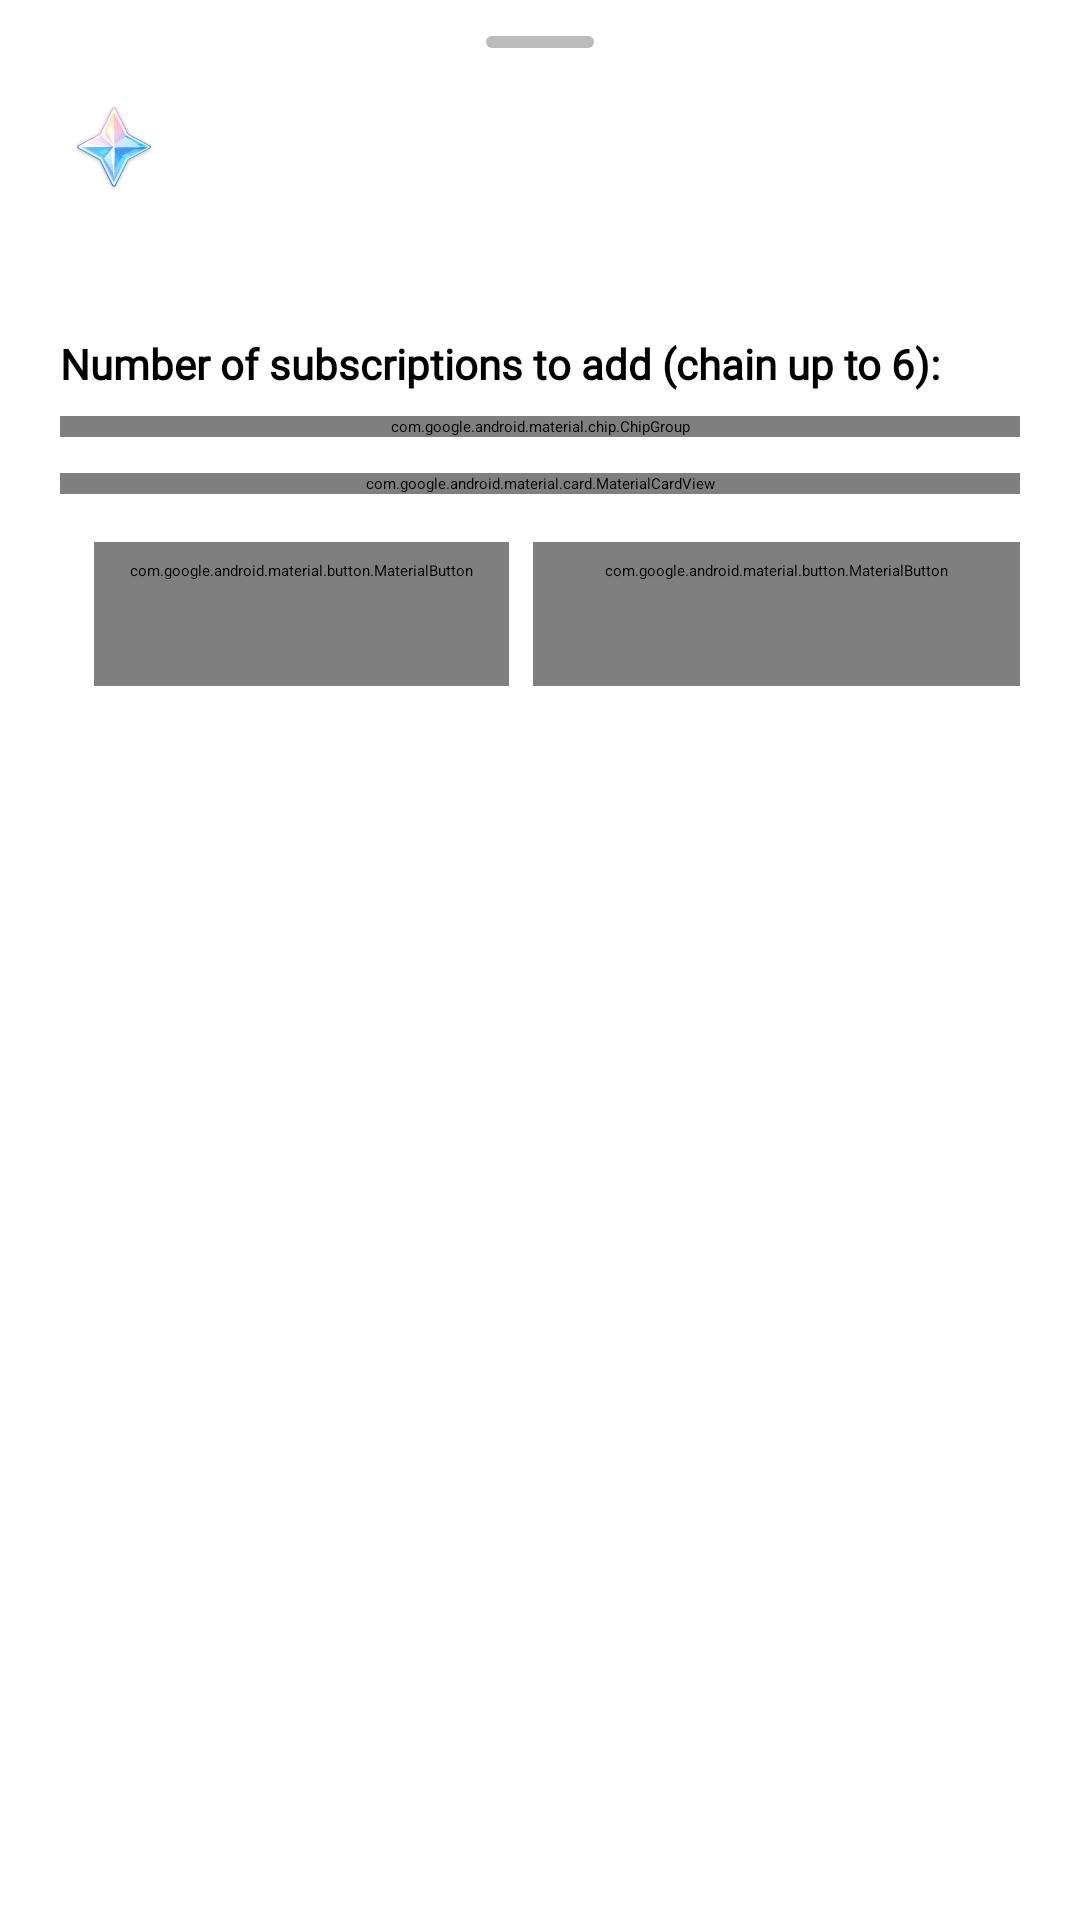

Icons on this 1080 x 1920 Android screen, each with the point to tap as point (x, y):
primogem: point (114, 147)
